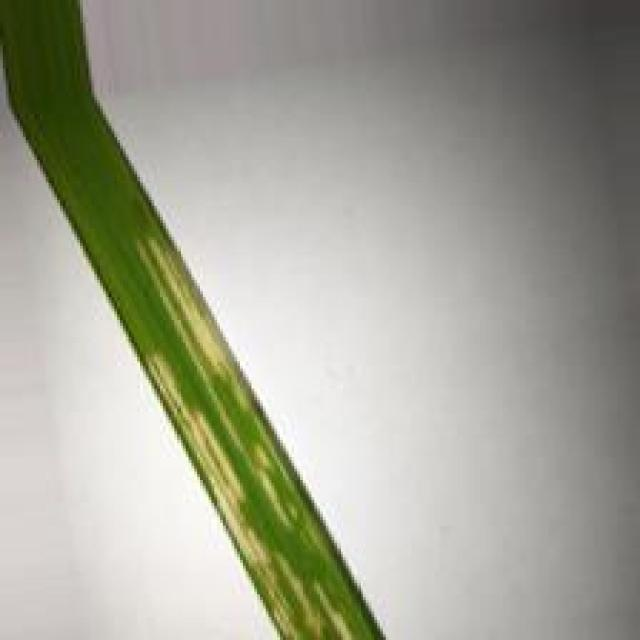Rice_Hispa: (145, 347, 302, 640), (132, 242, 245, 402), (205, 372, 300, 534), (280, 555, 326, 639), (313, 592, 345, 639)
